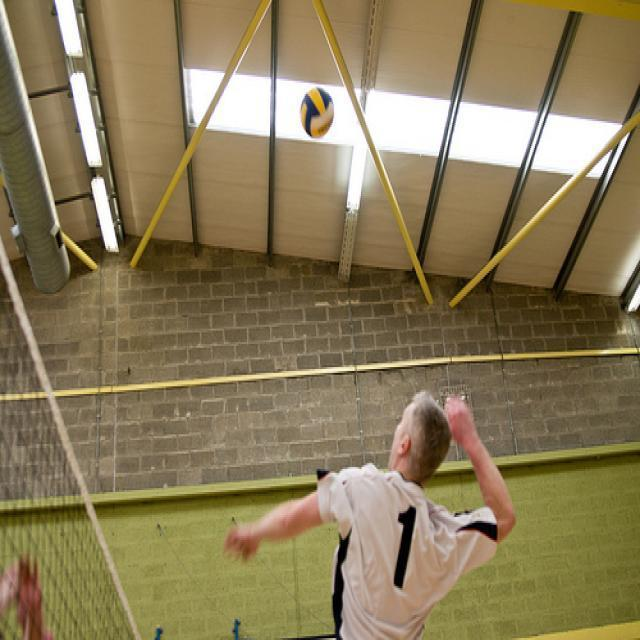volleyball: (300, 88, 334, 138)
